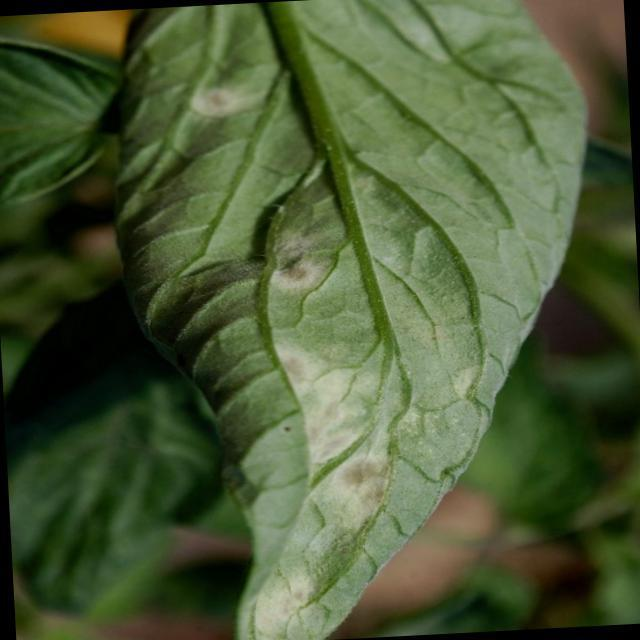Mosaic Virus: (157, 59, 407, 640)
